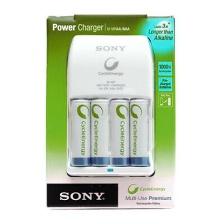battery: (66, 97, 93, 167), (127, 96, 153, 168), (107, 95, 132, 167), (89, 96, 111, 167)
book: (39, 10, 178, 213)
